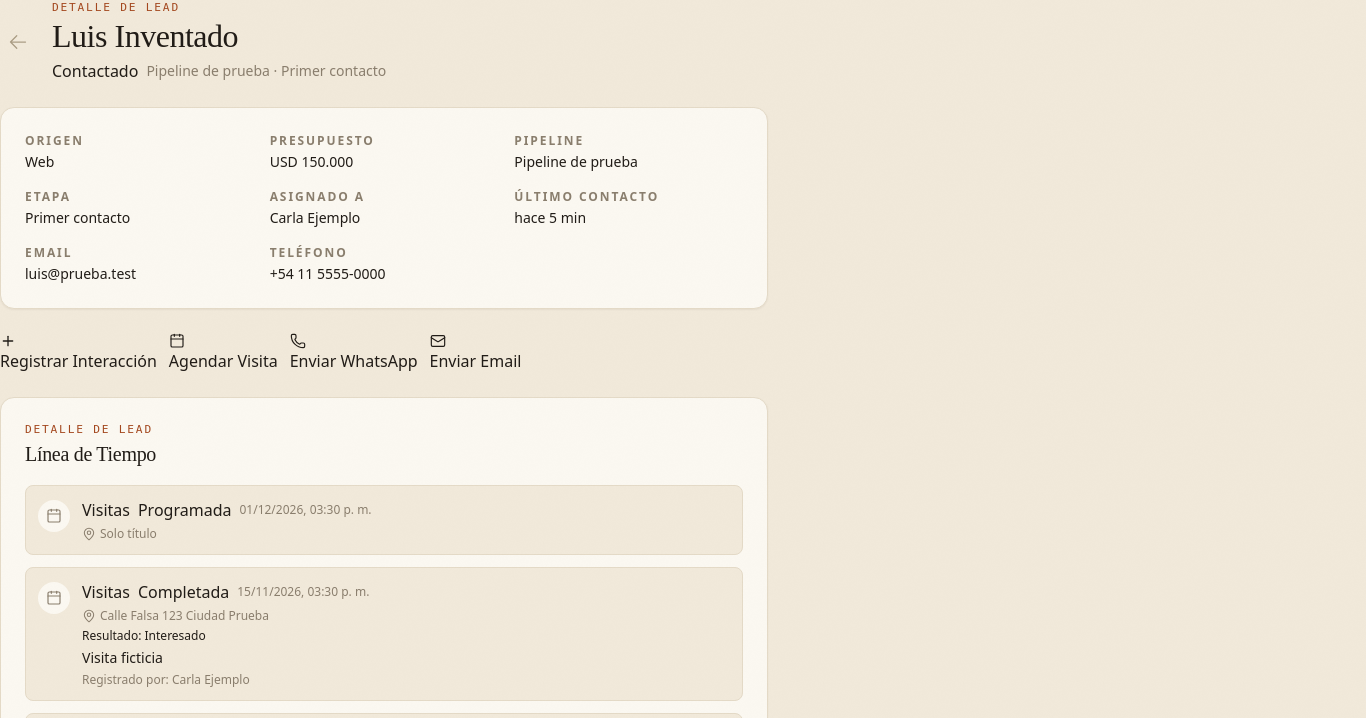
Test: LeadDetailPage › registra una interacción
The width and height of the screenshot is (1366, 718).
Expected: the heading "Luis Inventado" is shown, [52,18,238,54]
Click the button "Registrar Interacción" at coordinates (78, 353), box [0,333,157,373]
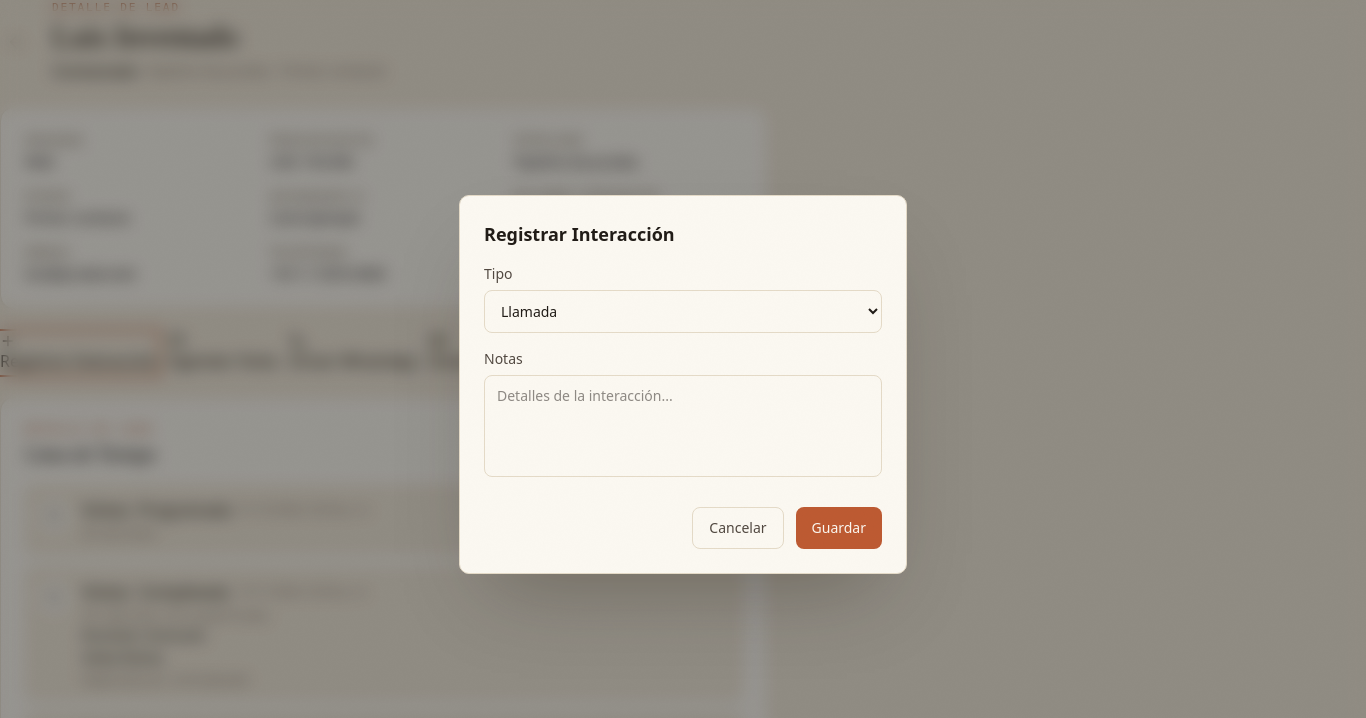
Select "Email" in the dropdown at coordinates (683, 311), box [484,290,882,332]
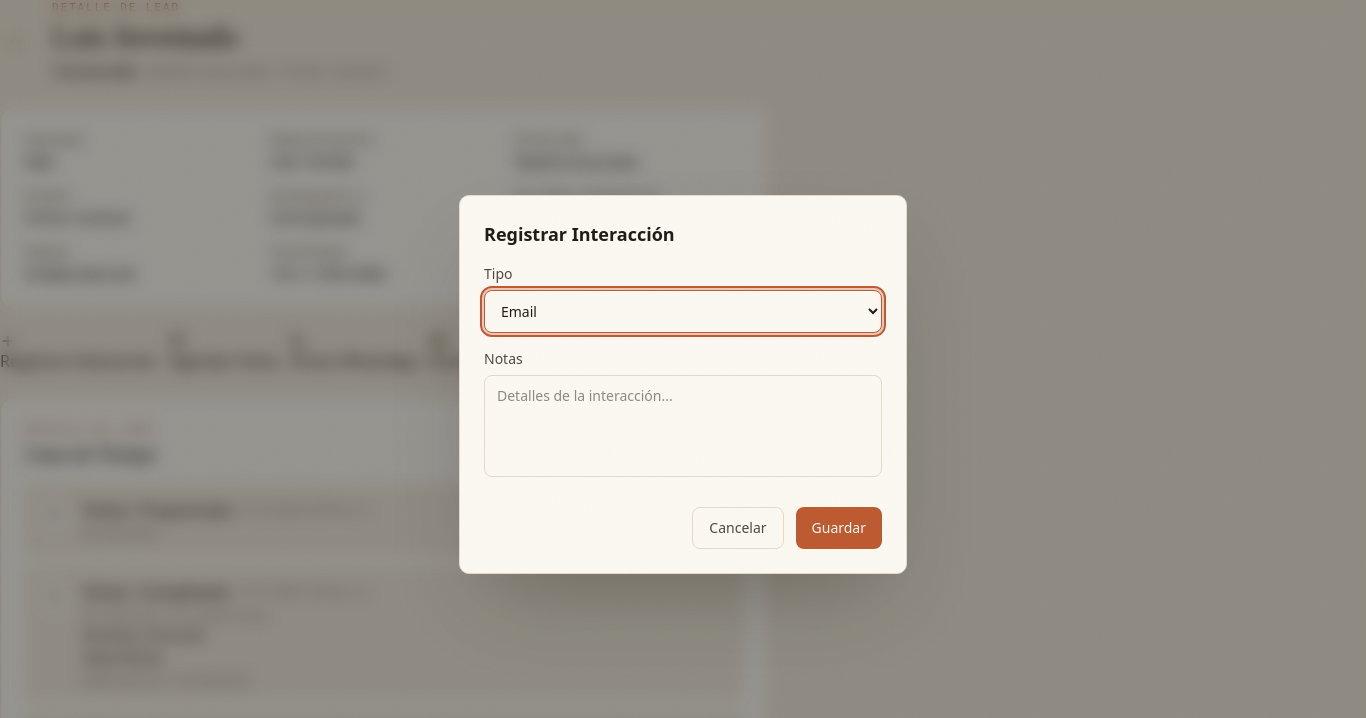
Type "Nota nueva" into the text box with placeholder "Detalles de la interacción..." at coordinates (683, 426), box [484,374,882,476]
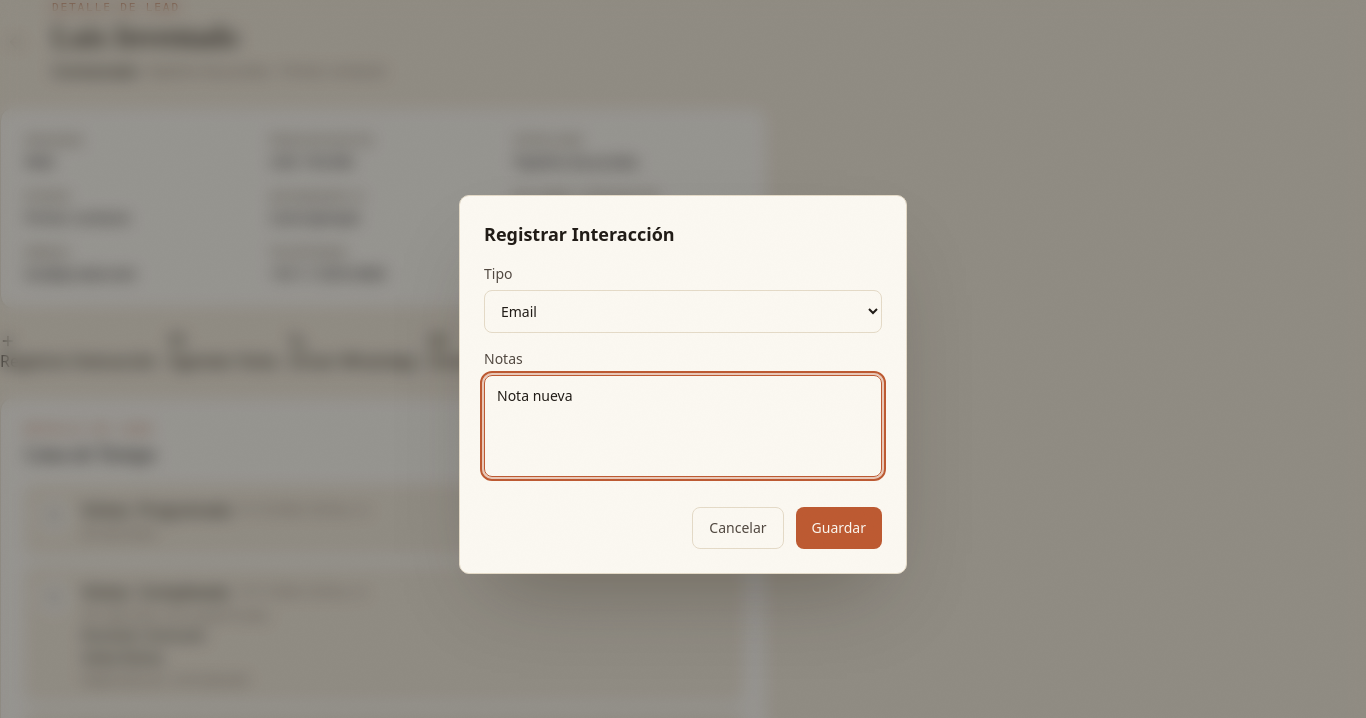
Click the button "Guardar" at coordinates (839, 528), box [796,506,882,548]
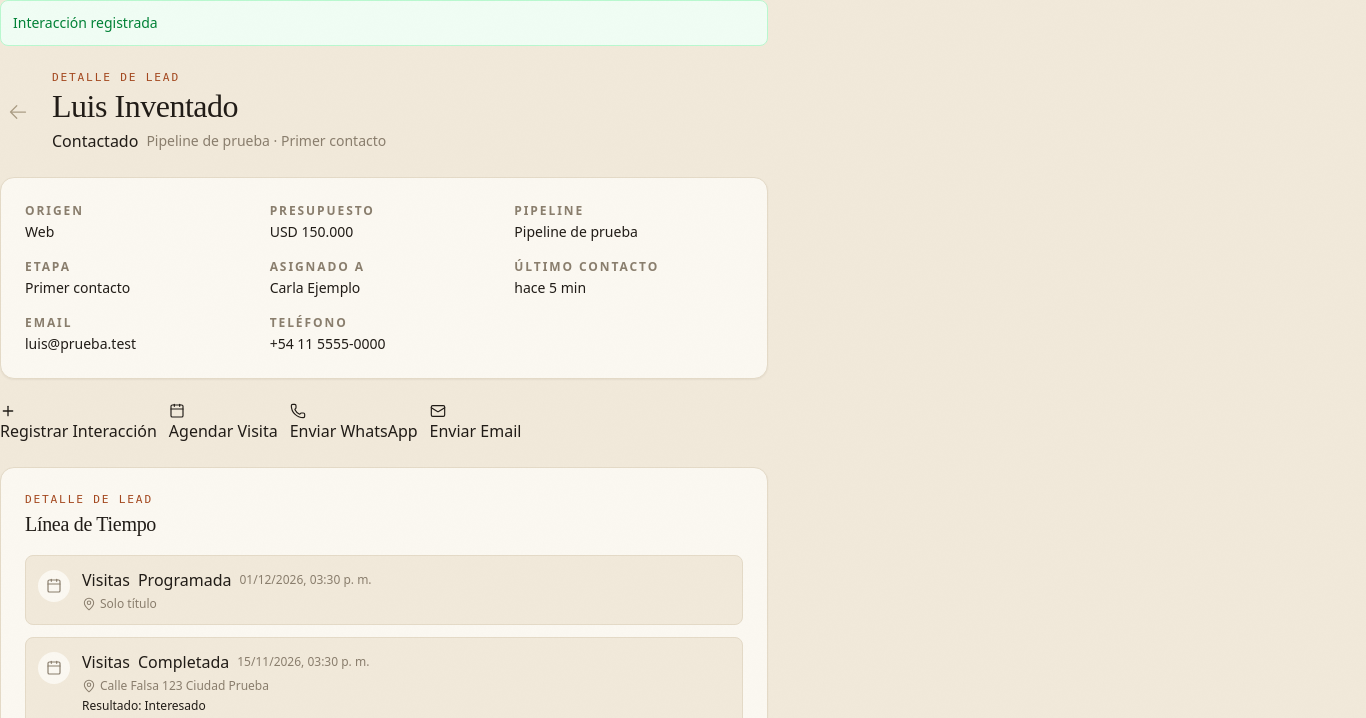
Expected: the text "Interacción registrada" is shown, [0,0,768,46]
